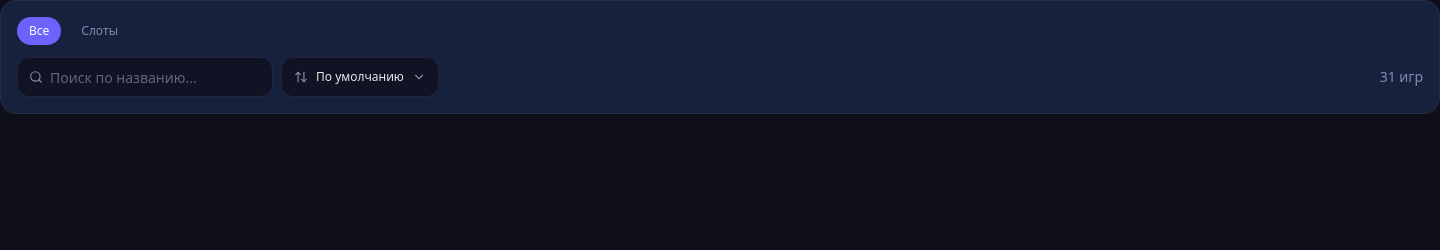
Test: Каталог: тулбар фильтров › сортировка — кастомный дропдаун: открыть, выбрать, меню закрылось
Click the button "По умолчанию".
click(360, 77)  # box [281,57,439,97]
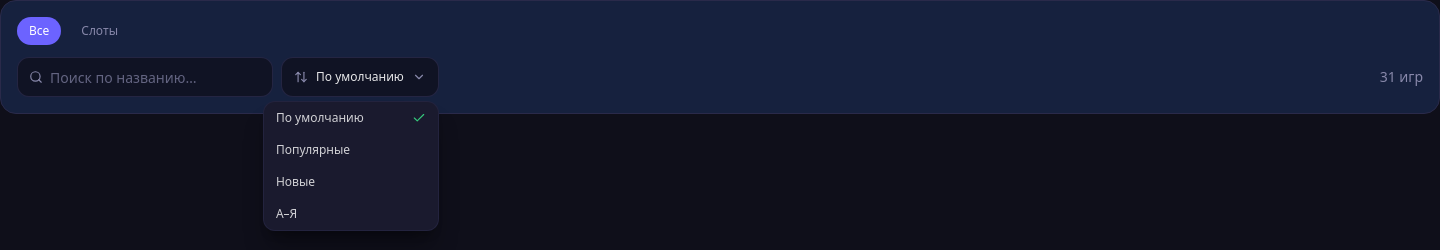
Click the option "Новые".
click(351, 182)  # box [264,166,438,198]
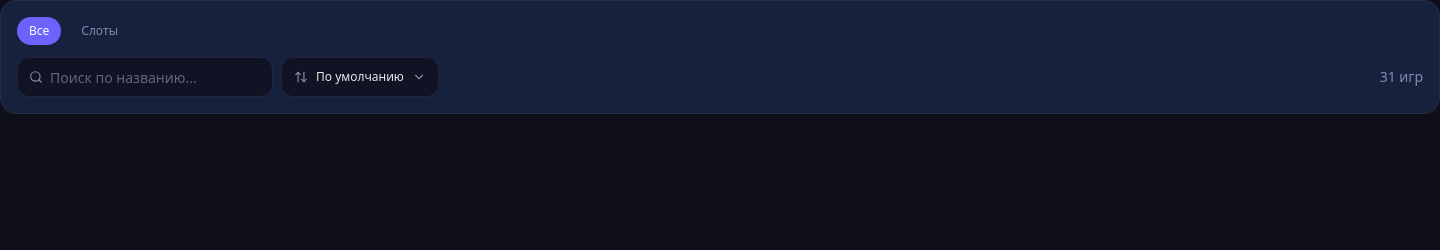
Check: the list is gone
